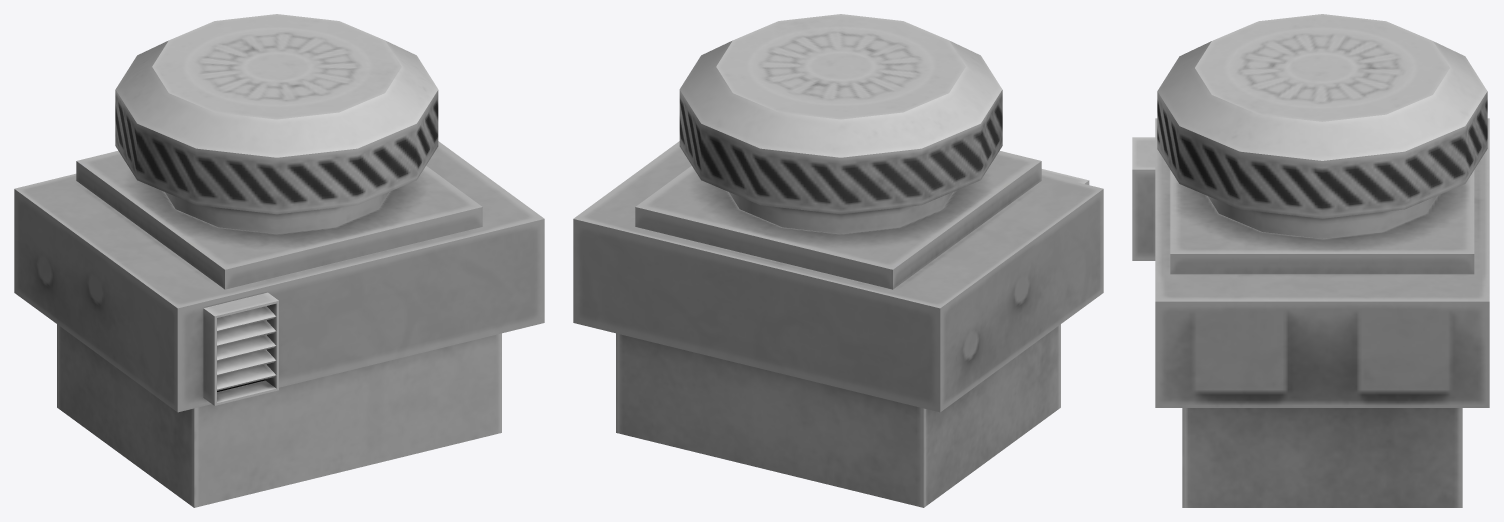
The model's file is Pfb_Ventilation_Soda1.fbx.
3 renders of one model, left to right at view 1: azimuth 30°, elevation 25°; view 2: azimuth 150°, elevation 25°; view 3: azimuth 270°, elevation 25°, orthographic. The views are drawn at different scales.
Visible parts, largest first — view 1: Mat_Ventilation_Soda; view 2: Mat_Ventilation_Soda; view 3: Mat_Ventilation_Soda.
Part boxes in pixels (x1,y1,x2,y2): Mat_Ventilation_Soda: (14, 14, 544, 507); Mat_Ventilation_Soda: (573, 14, 1103, 507); Mat_Ventilation_Soda: (1132, 14, 1489, 507).
Bounding box in the file's own units: 1.68 × 1.55 × 1.38.
Materials: 1 (1 with a texture image).
